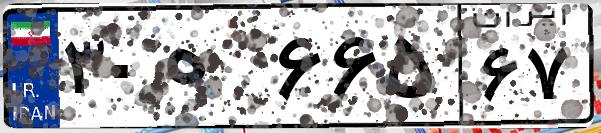0: (110, 28, 158, 98)
3: (57, 26, 110, 100)
5: (385, 28, 445, 110)
6: (270, 28, 330, 110), (330, 28, 385, 110), (475, 38, 525, 113)
7: (525, 38, 570, 115)
ه: (158, 20, 270, 120)
